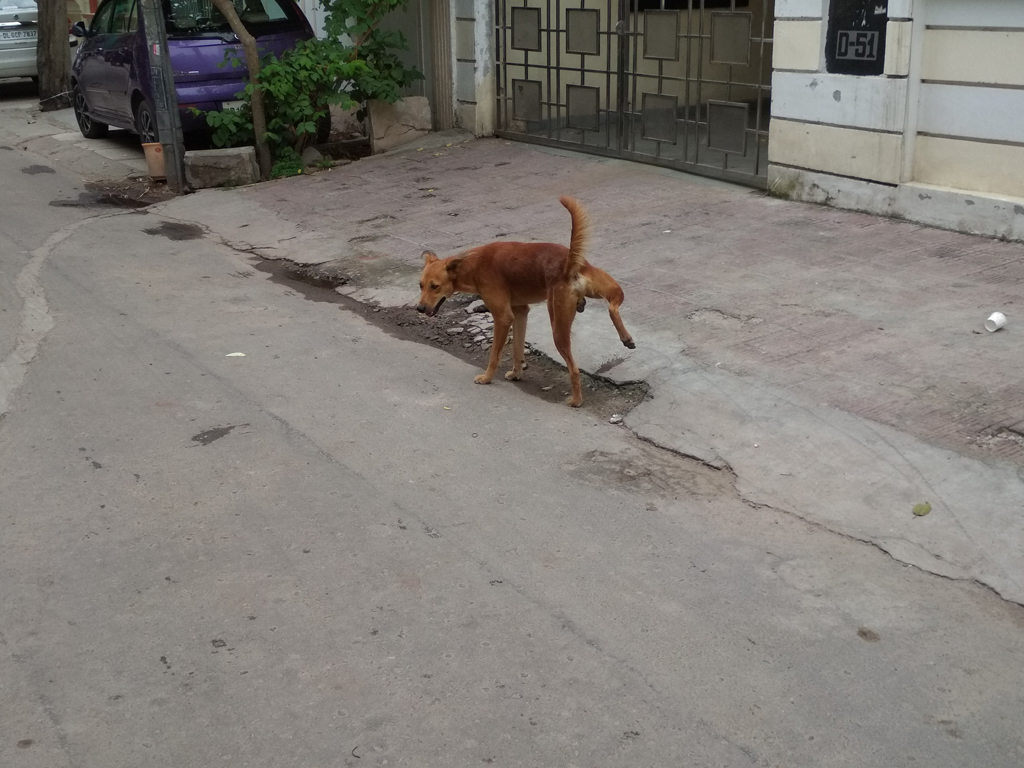dog: (417, 195, 636, 408)
